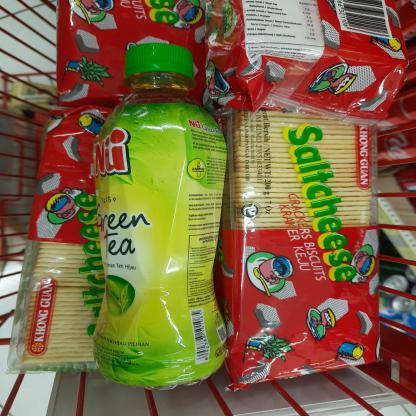plastic: (86, 41, 232, 393)
